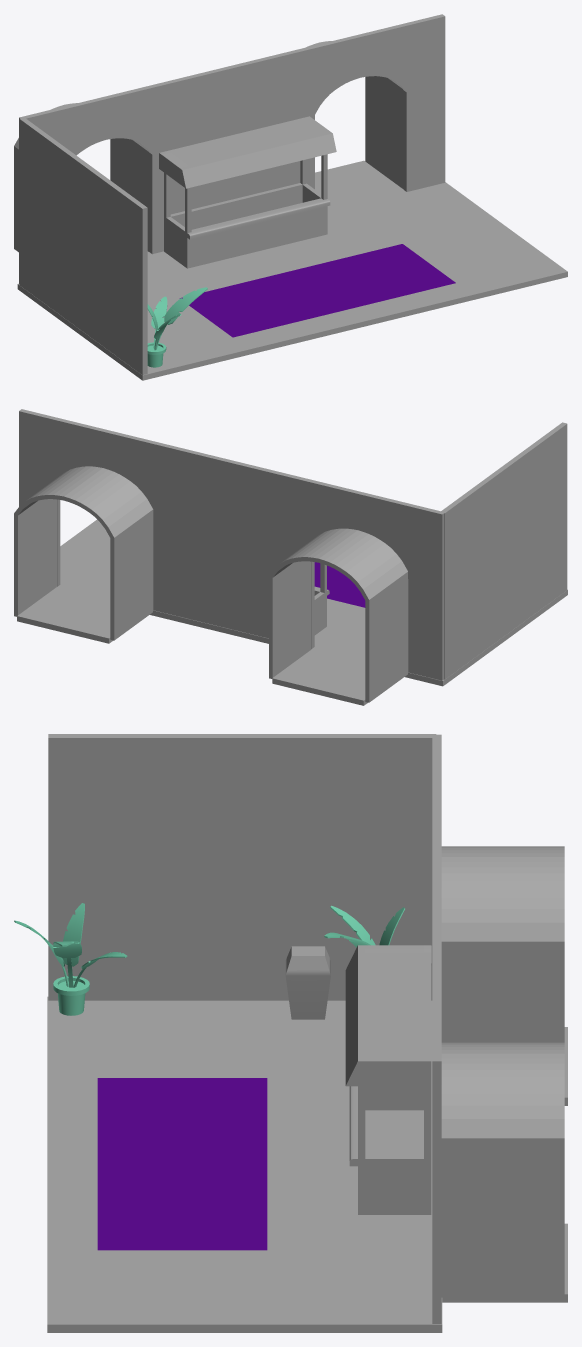
The model's file is Test_ArcadeEntrance.fbx.
3 views of the same model, one above another, from view 1: azimuth 30°, elevation 25°; view 2: azimuth 150°, elevation 25°; view 3: azimuth 270°, elevation 25° (orthographic). The views are drawn at different scales.
Parts seen in each view (by area): view 1: polySurface8, polySurface3, pCube3, polySurface1, Rug_bitchasklfjf_v, polySurface9, polySurface10, Big_plant1; view 2: polySurface8, pCube3, polySurface3, polySurface10, polySurface9, Rug_bitchasklfjf_v, polySurface1; view 3: pCube3, polySurface3, polySurface9, Rug_bitchasklfjf_v, polySurface10, polySurface1, polySurface8, pCube17, Big_plant1, Big_plant.
Boxes of the visible parts, x1,y1,x2,y2 form: polySurface8: (19, 14, 445, 284); polySurface3: (17, 160, 567, 380); pCube3: (19, 118, 147, 374); polySurface1: (159, 116, 336, 268); Rug_bitchasklfjf_v: (179, 244, 455, 337); polySurface9: (306, 41, 403, 189); polySurface10: (14, 103, 149, 252); Big_plant1: (147, 287, 207, 367); polySurface8: (19, 409, 444, 680); pCube3: (441, 422, 567, 679); polySurface3: (17, 519, 567, 705); polySurface10: (269, 528, 408, 702); polySurface9: (14, 466, 153, 640); Rug_bitchasklfjf_v: (314, 562, 365, 607); polySurface1: (314, 563, 329, 635); pCube3: (48, 734, 436, 1000); polySurface3: (47, 996, 567, 1332); polySurface9: (441, 1042, 564, 1300); Rug_bitchasklfjf_v: (97, 1078, 267, 1250); polySurface10: (441, 846, 564, 1042); polySurface1: (345, 945, 431, 1214); polySurface8: (432, 734, 441, 1323); pCube17: (285, 946, 330, 1019); Big_plant1: (14, 903, 127, 1015); Big_plant: (324, 905, 404, 947).
Bounding box in the file's own units: 1310 × 505 × 936.
